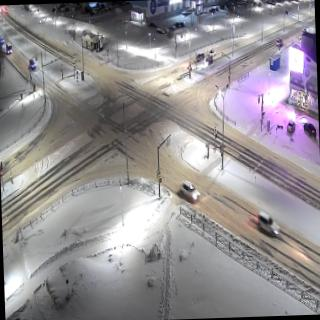large-vehicle: (6, 42, 12, 54)
small-vehicle: (180, 177, 198, 206), (255, 209, 275, 235), (30, 54, 36, 76), (277, 34, 283, 49), (196, 54, 203, 64), (207, 49, 217, 56), (207, 59, 216, 64), (0, 38, 4, 44)
